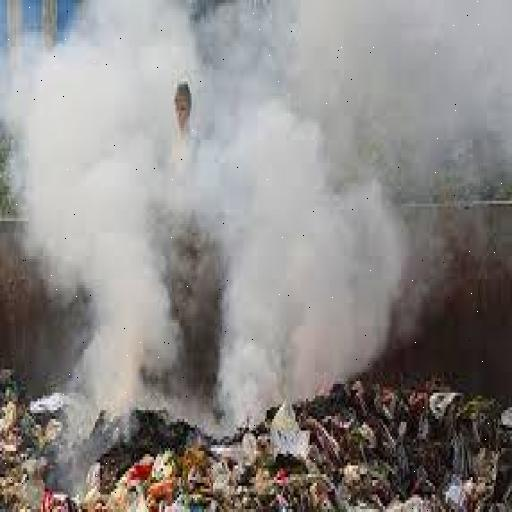smoke: (27, 3, 390, 451)
